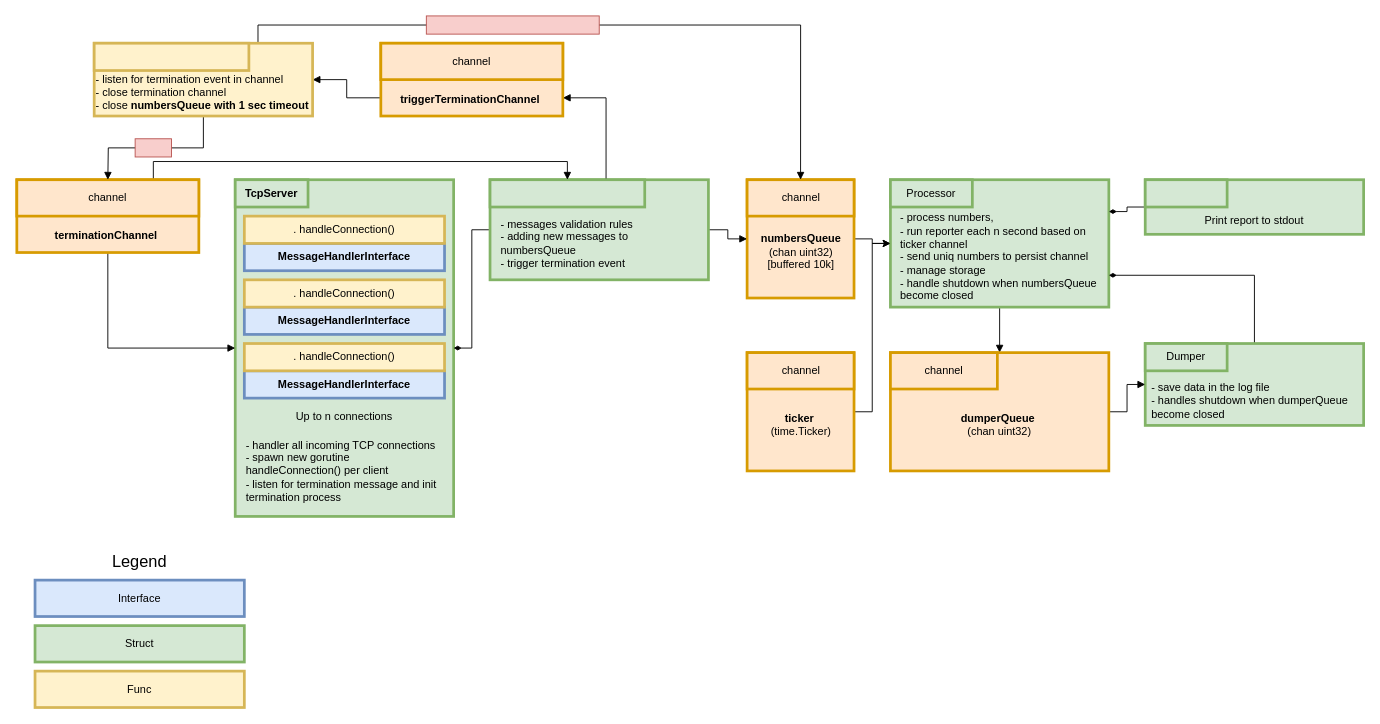
Image size: 1380x724. Some labels were removed from this diagram. The shapes that lost their labels are listed below. From the top down, each one's centre as x and y in pixels, then its label:
[512,24]: Close with 1 sec timeout
[171,56]: Terminator
[153,147]: Close
[567,193]: IncomingMessageHandler
[1185,193]: Reporter
